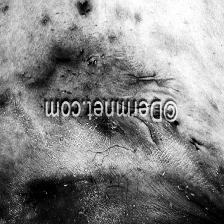Non-Cancerous Skin Condition: (12, 166, 224, 224)
